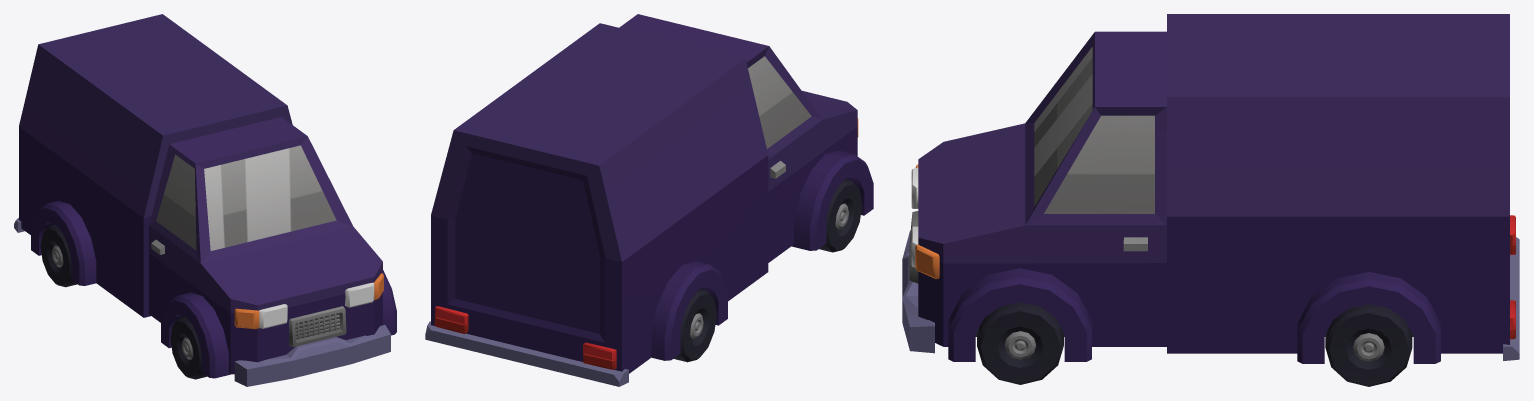
File: Van_10.glb
3 renders of one model, left to right at view 1: azimuth 30°, elevation 25°; view 2: azimuth 150°, elevation 25°; view 3: azimuth 270°, elevation 25°, orthographic. The views are drawn at different scales.
Visible parts, largest first — view 1: Van_10, wheel_FR, wheel_BR; view 2: Van_10, wheel_BR, wheel_FR; view 3: Van_10, wheel_BL, wheel_FL.
Part boxes in pixels (x1=…): Van_10: x1=14, y1=14, x2=396, y2=386; wheel_FR: x1=170, y1=317, x2=207, y2=379; wheel_BR: x1=40, y1=224, x2=77, y2=287; Van_10: x1=425, y1=14, x2=873, y2=386; wheel_BR: x1=673, y1=289, x2=716, y2=362; wheel_FR: x1=819, y1=179, x2=861, y2=252; Van_10: x1=902, y1=14, x2=1519, y2=363; wheel_BL: x1=1325, y1=304, x2=1412, y2=386; wheel_FL: x1=977, y1=302, x2=1063, y2=384.
Bounding box in the file's own units: 1.23 × 1.19 × 2.48.
Materials: 5 (5 with a texture image).
